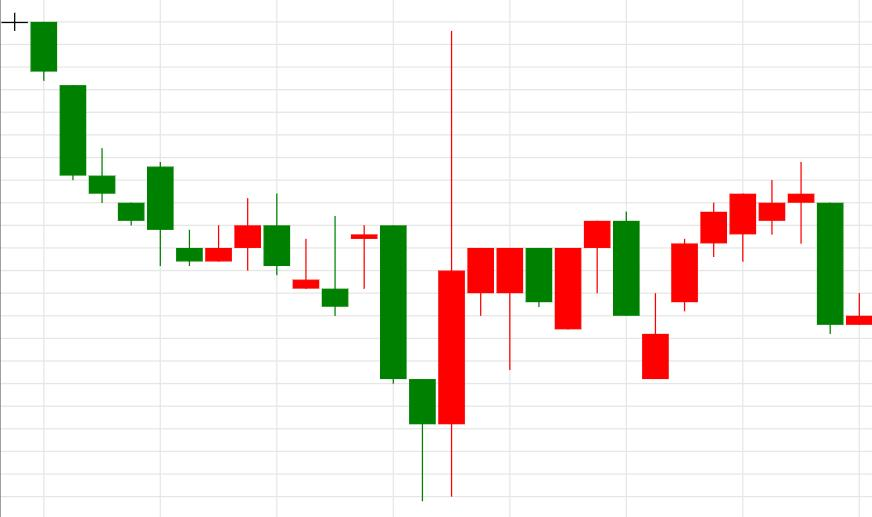shooting_star_fall: (264, 194, 437, 502)
